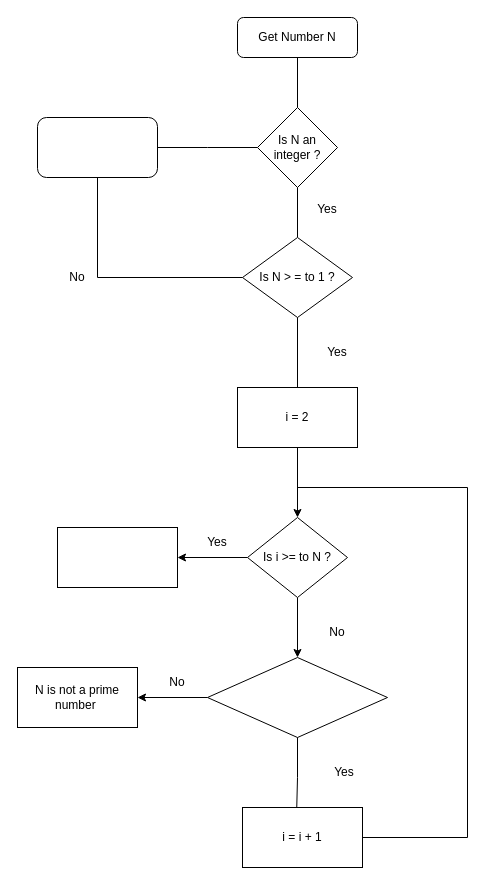
Image size: 486x885. Some labels were removed from this diagram. The shapes that lost their labels are listed below. From the top down, each one's centre as x and y in pixels, then its label:
(97,147): Not a Prime Number
(117,557): N is a prime number
(297,697): is there a remainder when dividing N by I ?
